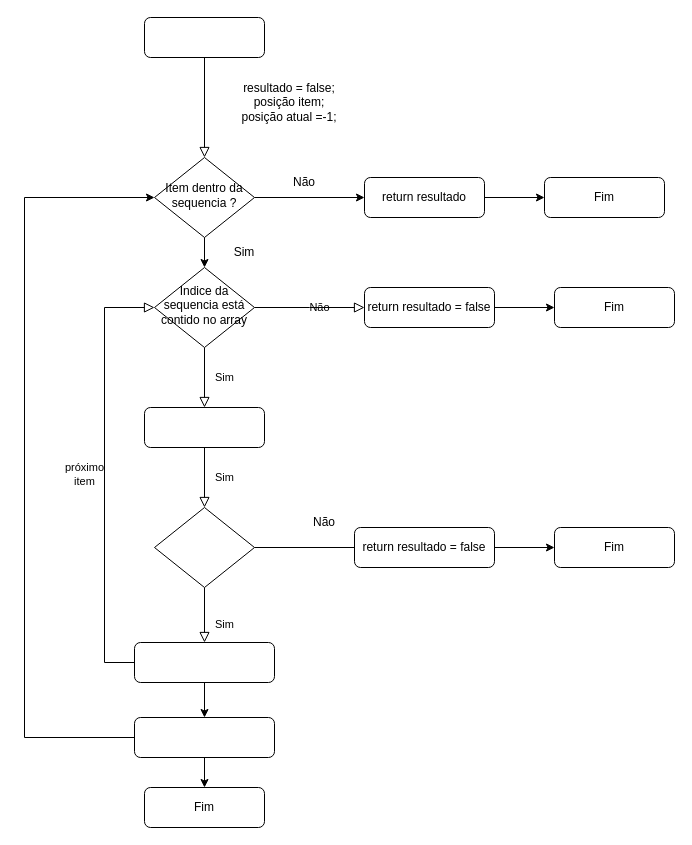
This 692x845 diagram has some shape labels left out. Here are the shapes that lost their labels. From the top down, the centre of each, then its label:
(204,37): Início
(204,427): posição do item no array = posição item
(204,547): posição item > posição atual
(204,662): posição atual = posição item
(204,737): return resultado = true
